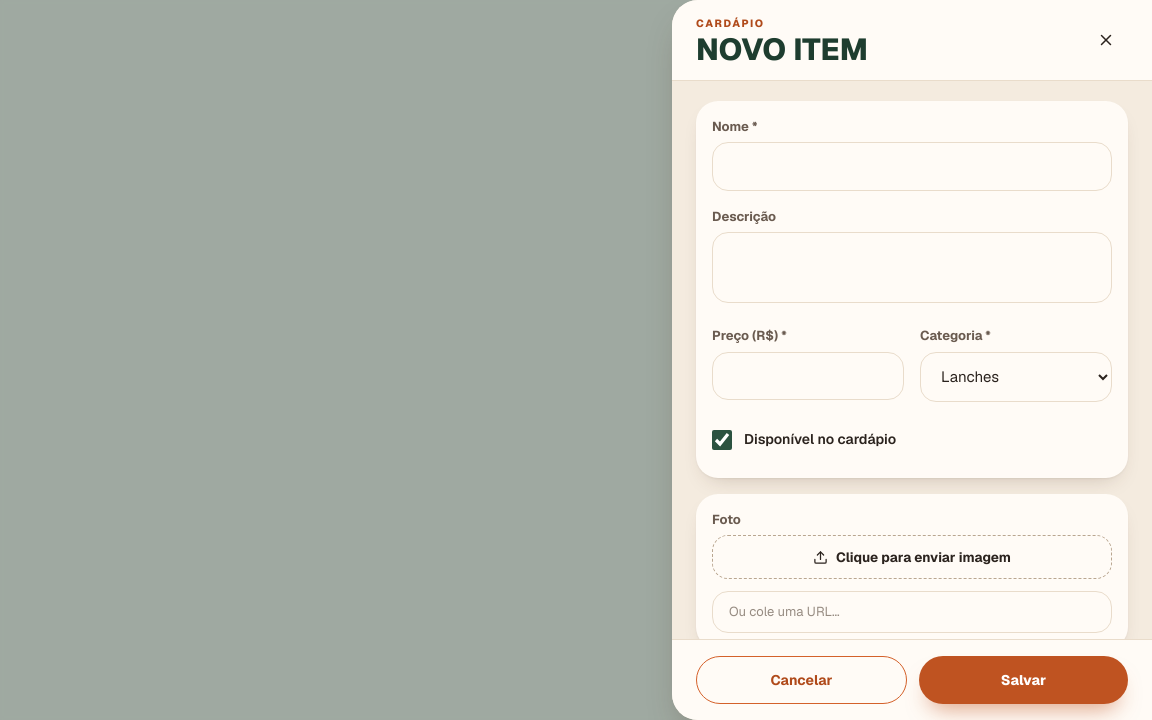
Test: validação › recusa preço texto, que o campo numérico esvazia
Type "X-Salada" into the field named "name" at (912, 166), box [712,142,1112,191]
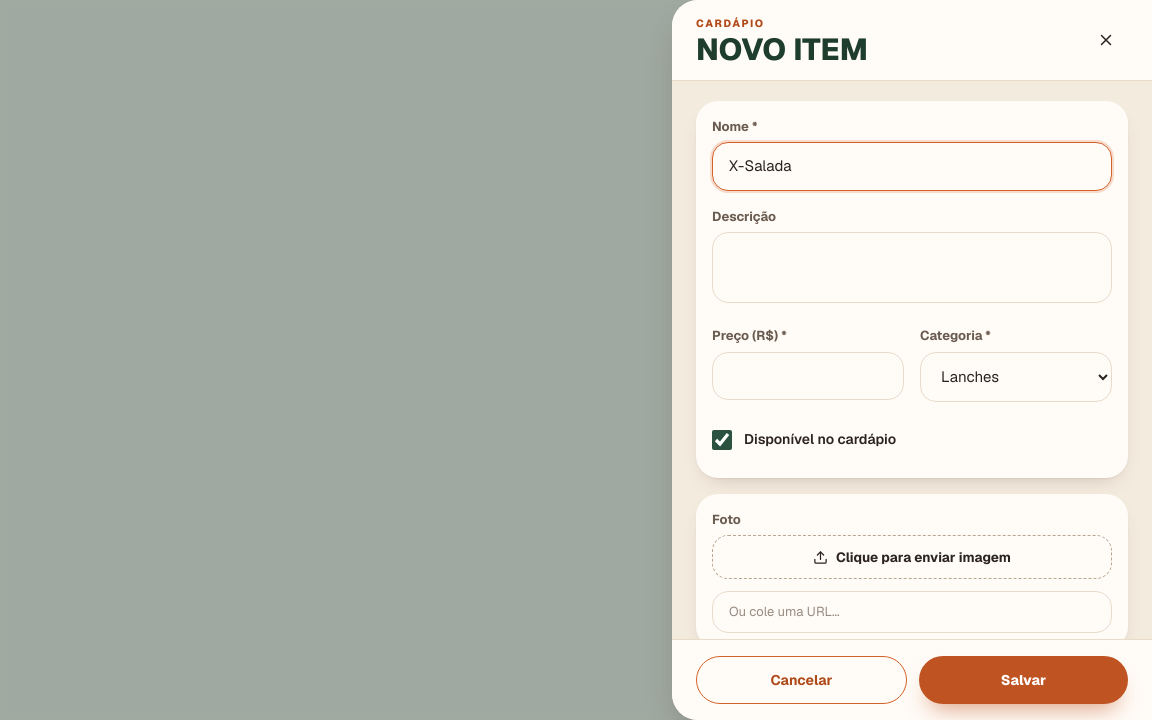
Type "de graça" into the number field named "price" at (808, 376), box [712,352,904,400]
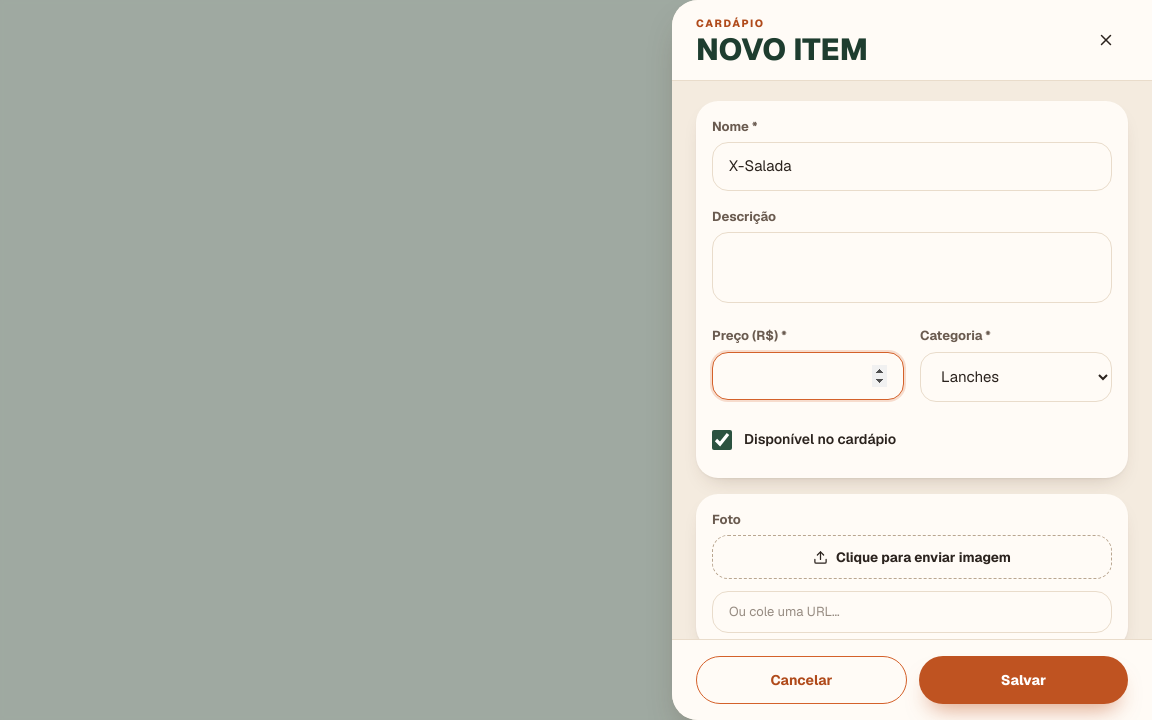
Click the button "Salvar" at (1024, 680), box [919,656,1128,704]
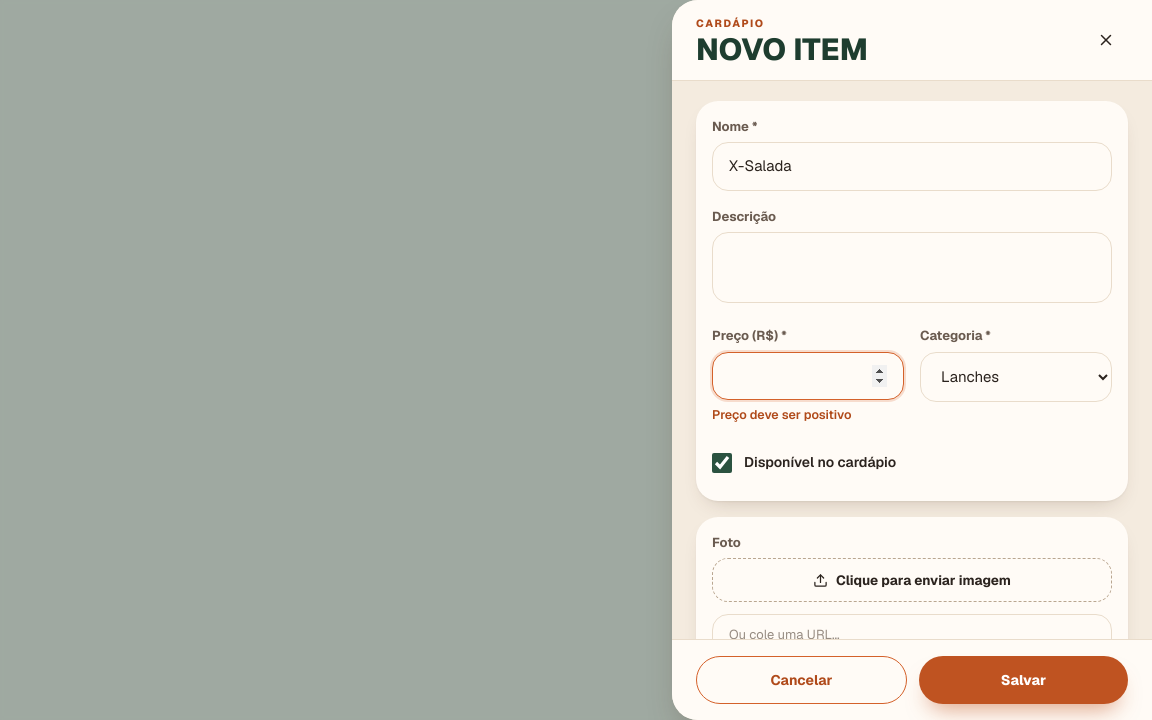
Expected: the text "Preço deve ser positivo" is shown, [712,406,852,423]
